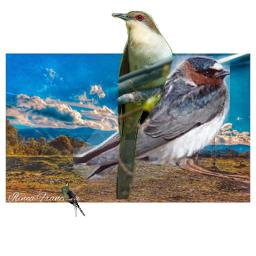Cuckoo: (111, 10, 175, 199), (61, 183, 87, 217)
Swallow: (73, 56, 230, 182)
